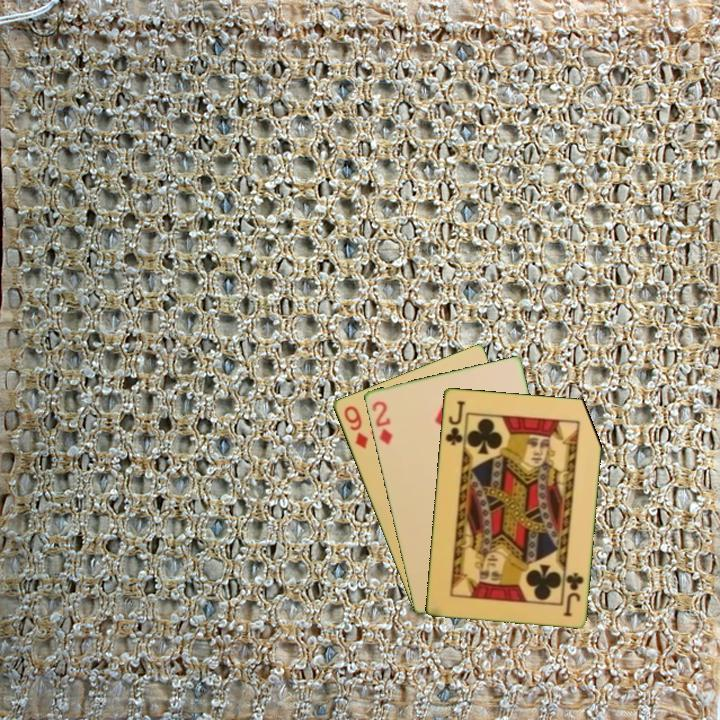2d: (368, 397, 395, 447)
9d: (340, 402, 371, 451)
Jc: (560, 569, 586, 619), (442, 397, 467, 448)
